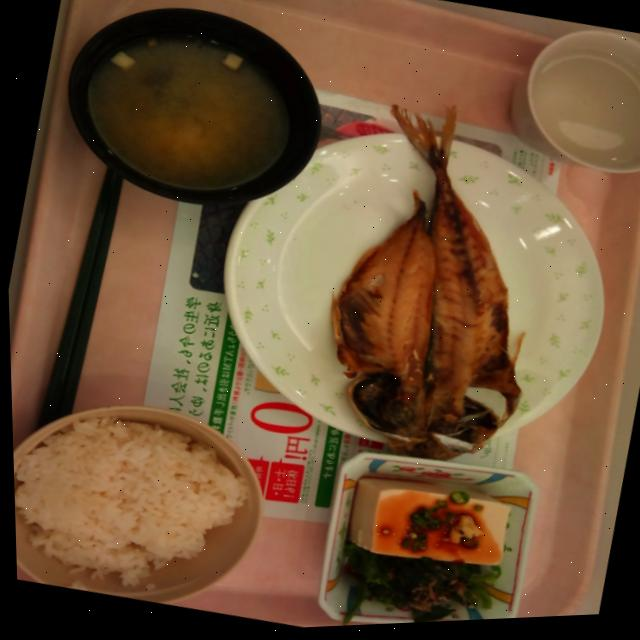汤锅炖物: (44, 0, 314, 215)
熟制海鲜: (286, 88, 595, 481)
米饭主食: (9, 395, 254, 622)
豆腐料理: (324, 463, 517, 587)
